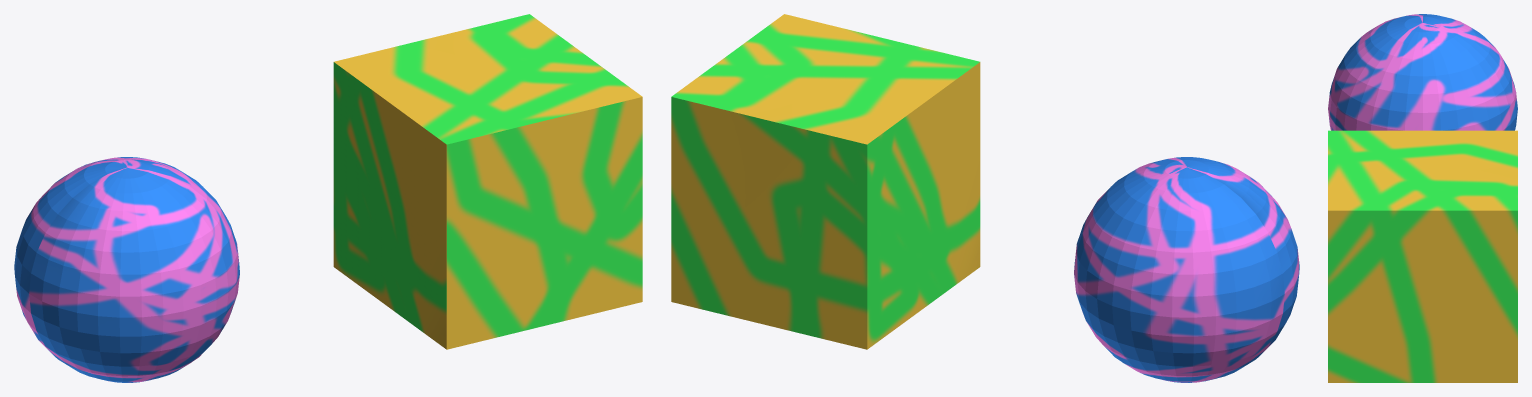
3 views of the same model, side by side, from view 1: azimuth 30°, elevation 25°; view 2: azimuth 150°, elevation 25°; view 3: azimuth 270°, elevation 25° (orthographic). The views are drawn at different scales.
Parts seen in each view (by area): view 1: Cube, Sphere; view 2: Cube, Sphere; view 3: Cube, Sphere.
Part boxes in pixels (bbox=[...]): Cube: bbox=[333, 14, 642, 349]; Sphere: bbox=[14, 157, 239, 382]; Cube: bbox=[671, 14, 980, 349]; Sphere: bbox=[1074, 157, 1299, 382]; Cube: bbox=[1328, 130, 1517, 382]; Sphere: bbox=[1328, 14, 1517, 130].
Bounding box in the file's own units: 5.68 × 2 × 2.
2 materials, 2 textured.
